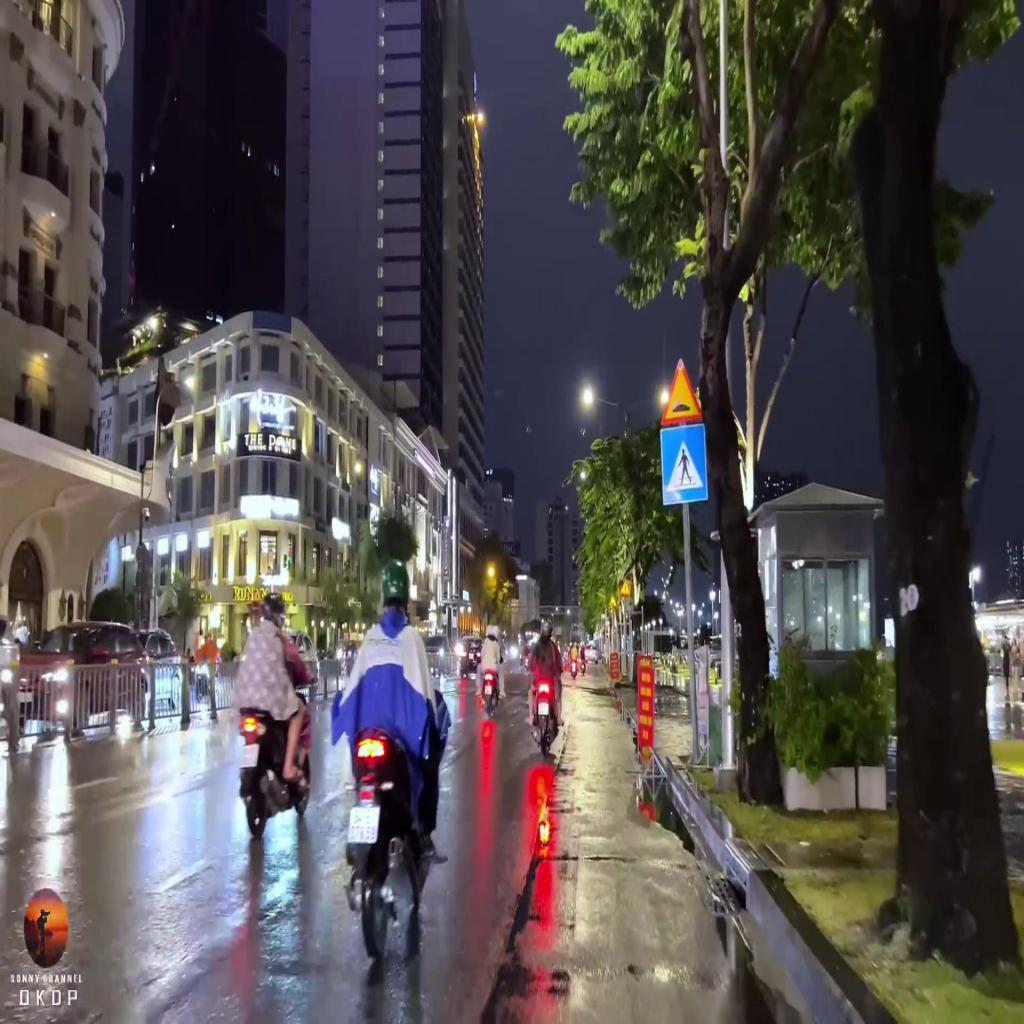chu_y_nguoi_di_bo_cat_ngang: (620, 578, 630, 596)
duong_co_song_map_mo_nhan_tao: (660, 356, 704, 425)
duong_nguoi_di_bo_sang_ngang: (661, 424, 708, 505)
